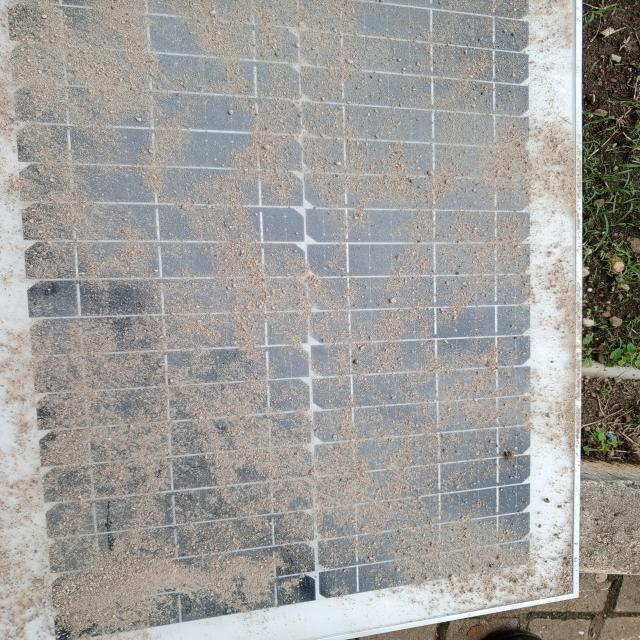Surface Contaminant: (29, 23, 533, 586)
